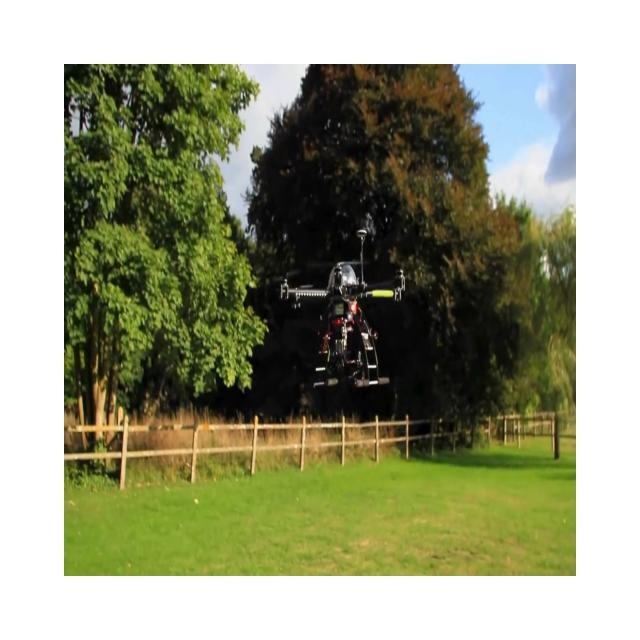drone: (278, 227, 406, 390)
